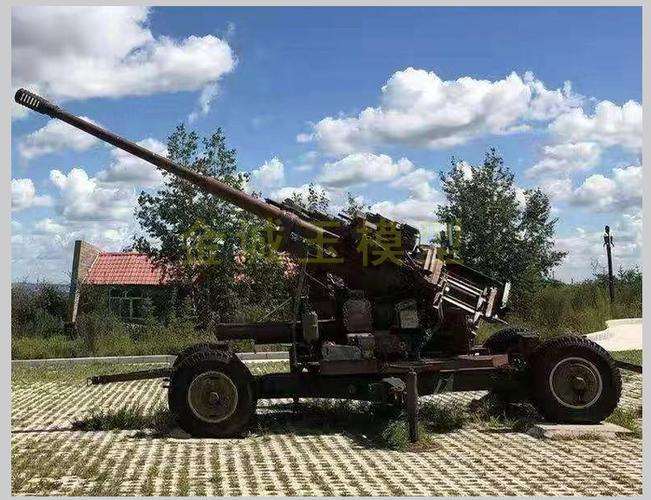MIL_SPG: (15, 89, 622, 436)
